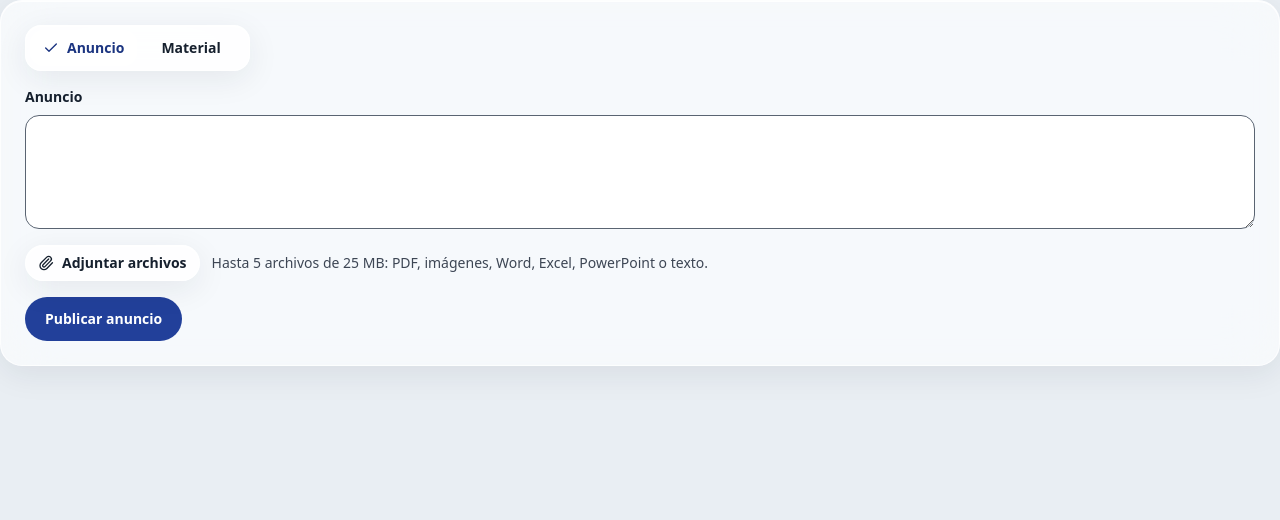
Test: CHORE-03 · la frase genérica en un ErrorDeCampo de clases: repetir el control › CH3-B10: publicar un material tras F2: el mismo botón manda una petición nueva y, si responde bien, el ErrorDeCampo desaparece
Click the button "Material". click: coordinates (191, 48)
box: [137,30,245,66]
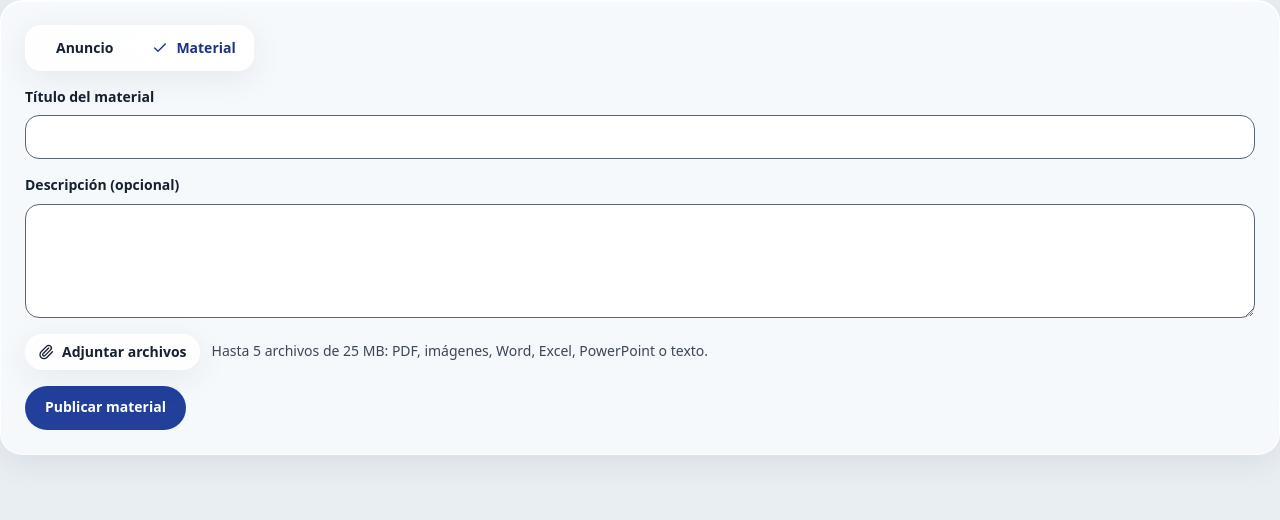
Type "Lectura" into the field labelled "Título del material". click: coordinates (640, 137)
box: [25,115,1255,159]
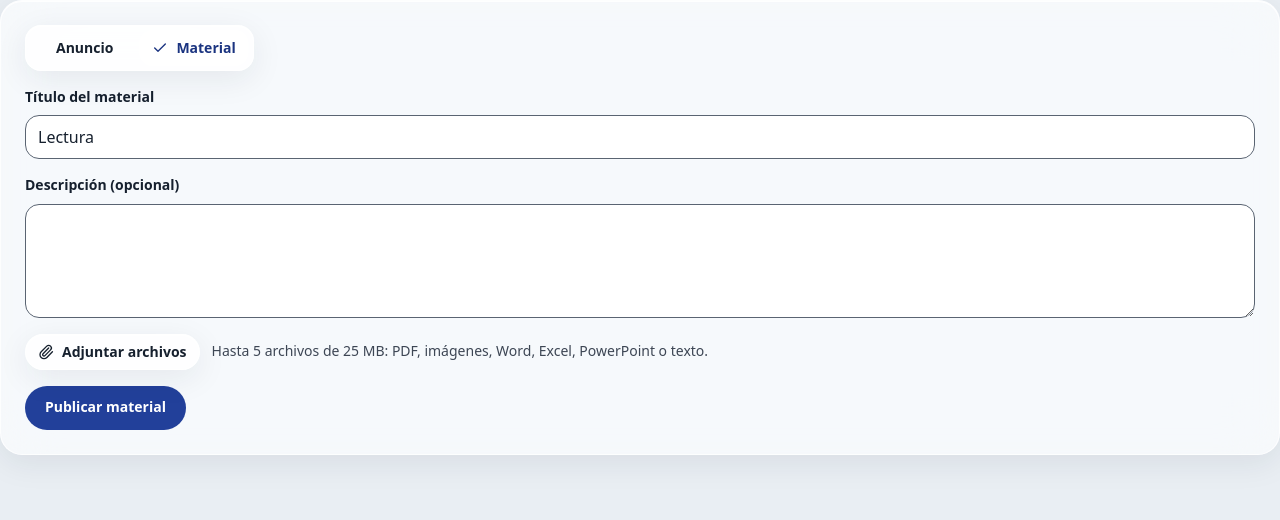
Type "Capítulo 3" into the text box labelled "Descripción (opcional)". click: coordinates (640, 261)
box: [25,204,1255,318]
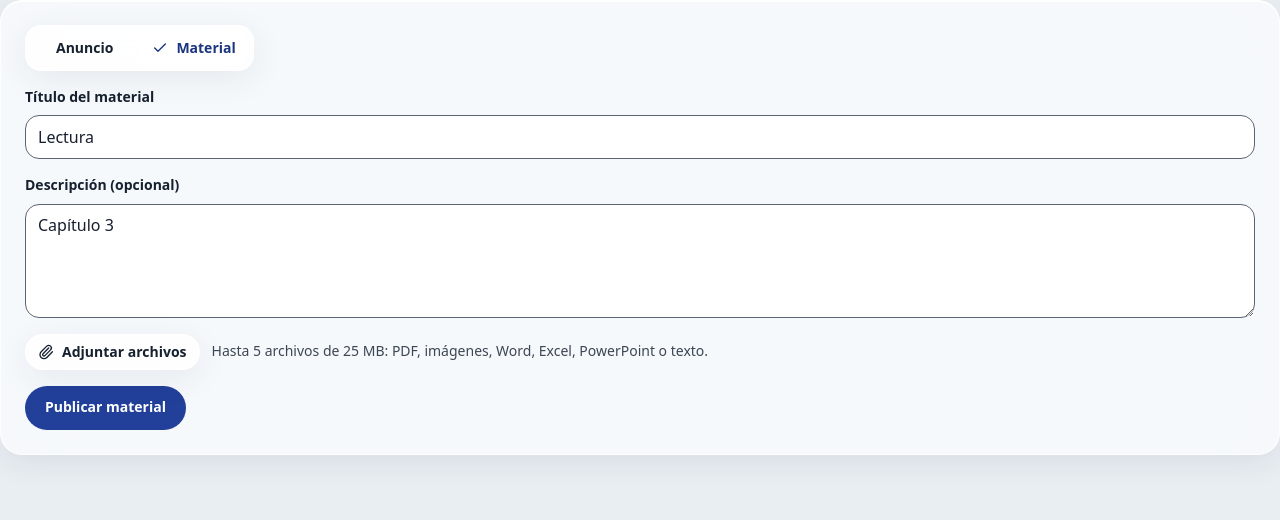
Click the button "Publicar material". click: coordinates (106, 408)
box: [25,386,186,430]
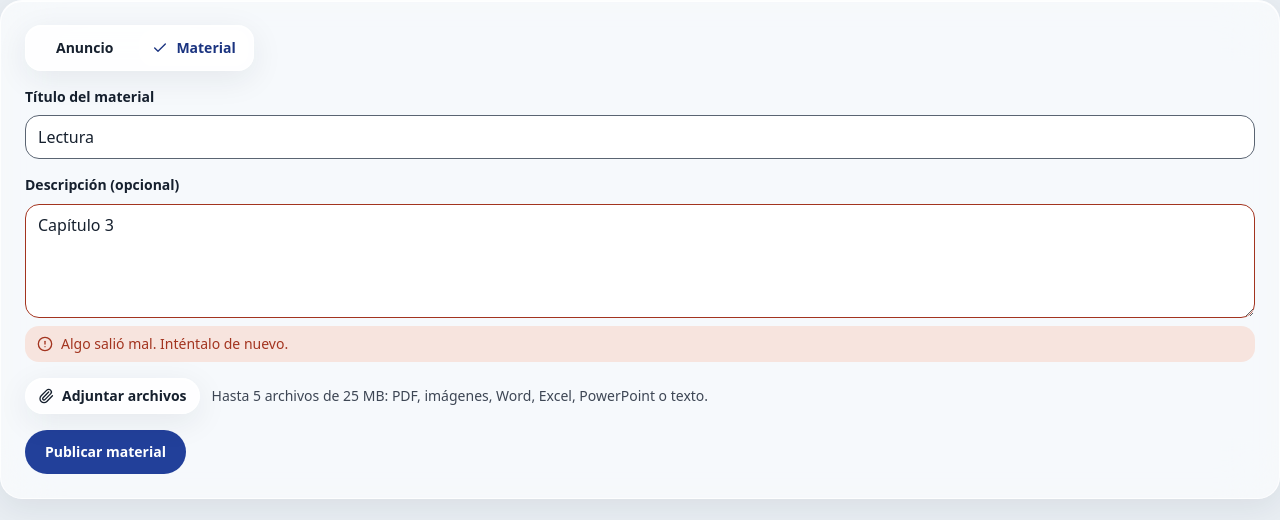
Click the button "Publicar material". click: coordinates (106, 452)
box: [25,430,186,474]
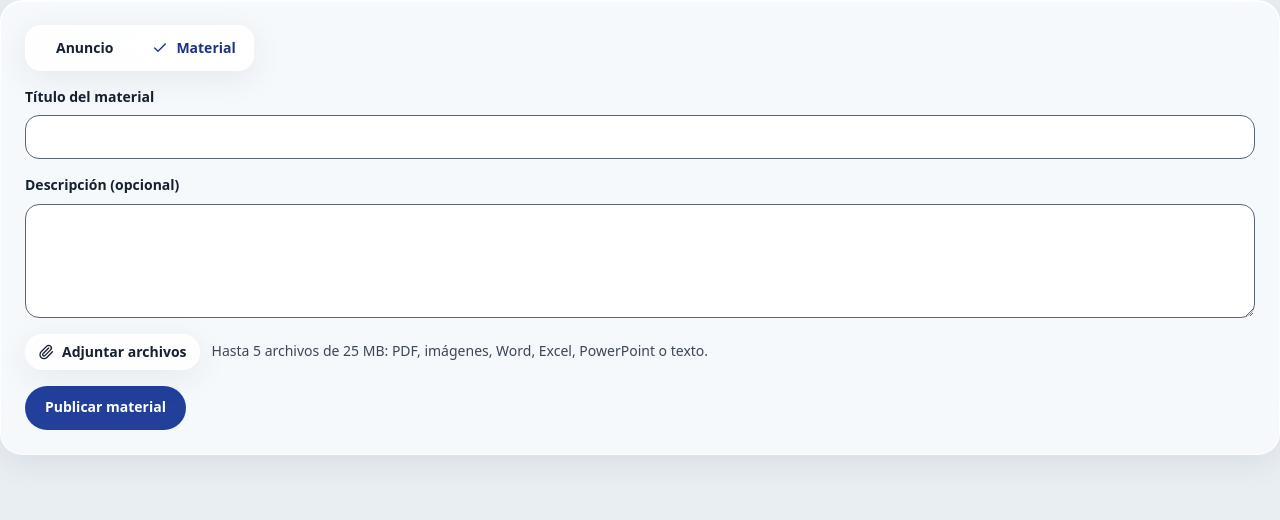
Expected: the text "Algo salió mal. Inténtalo de nuevo." is gone
